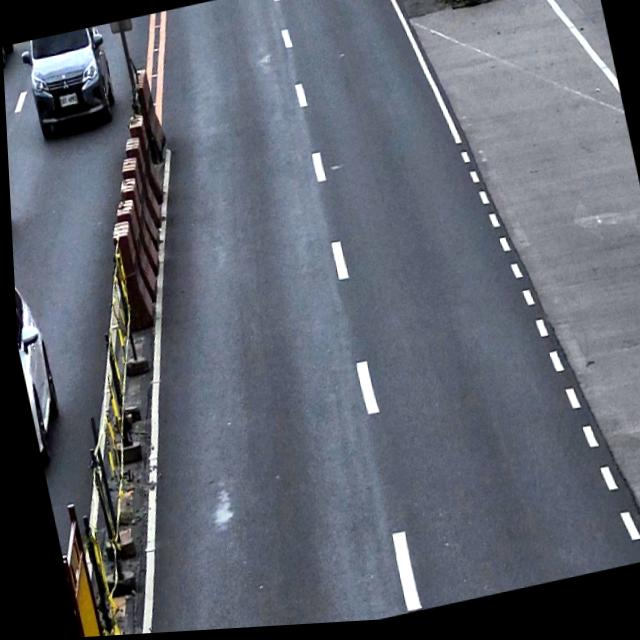Car: (17, 26, 121, 140), (11, 266, 67, 469)
License-Plate: (57, 94, 78, 110)
